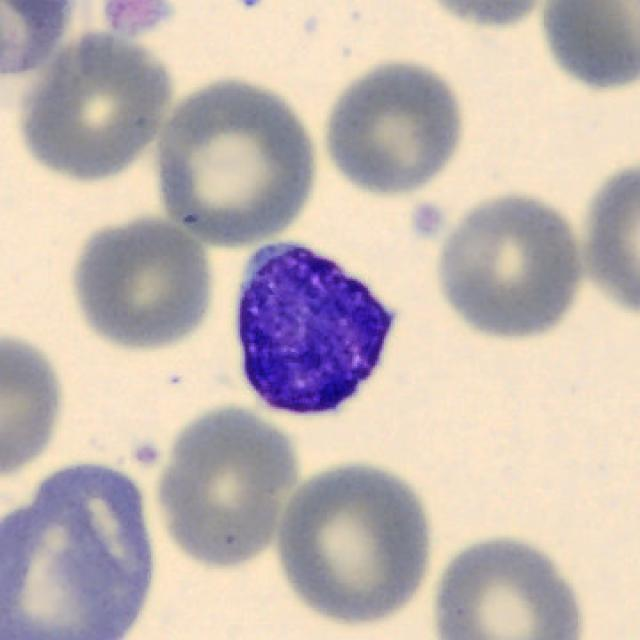Linfocito: (235, 244, 395, 416)
